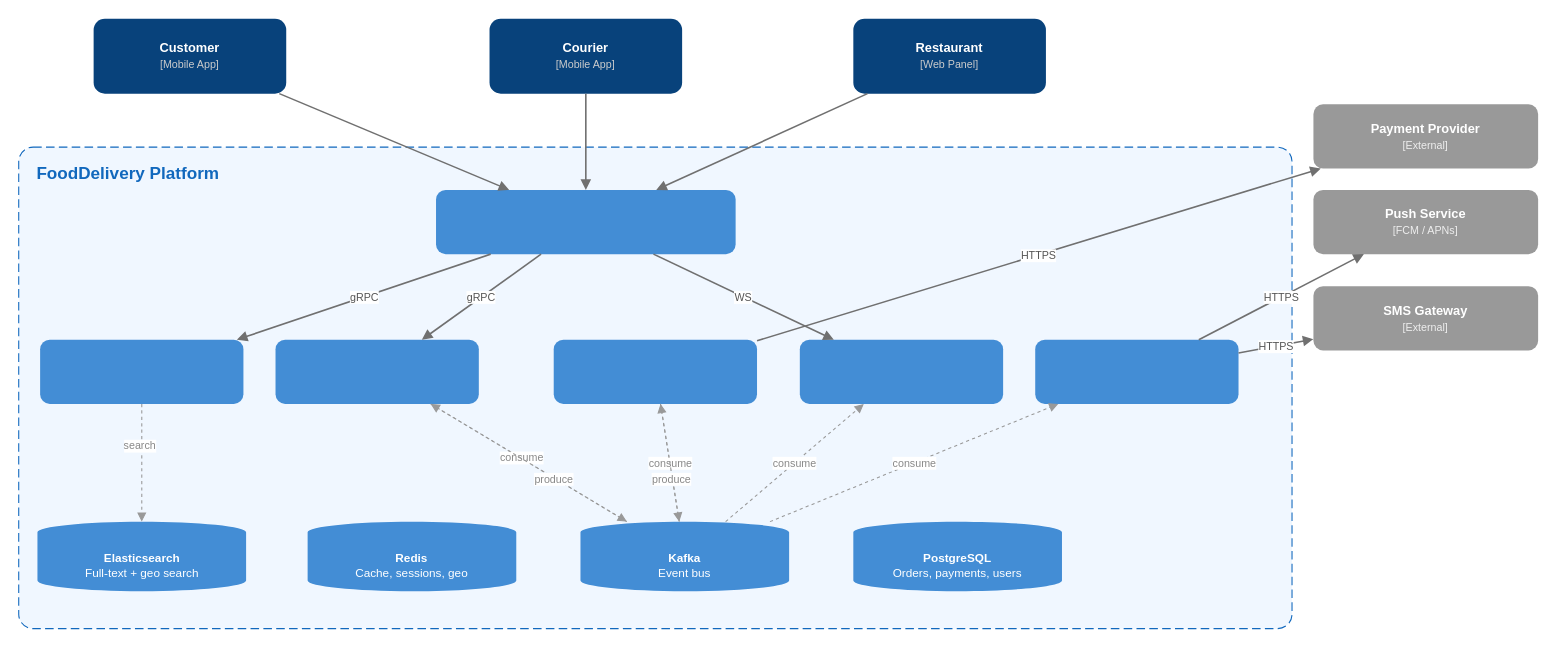
This 1557x647 diagram has some shape labels left out. Here are the shapes that lost their labels. From the top down, the box of each, then its label:
(435, 189, 735, 254): API Gateway [Kong] Routing, auth, rate limiting
(40, 339, 243, 403): Catalog Service [Go] Restaurants, menu, search
(275, 339, 478, 403): Order Service [Go] Order lifecycle, saga
(553, 339, 756, 403): Payment Service [Go] Payments, reconciliation
(799, 339, 1003, 403): Tracking Service [Go] Delivery status, WebSocket
(1035, 339, 1238, 403): Notification Svc [Go] Push / SMS dispatch
